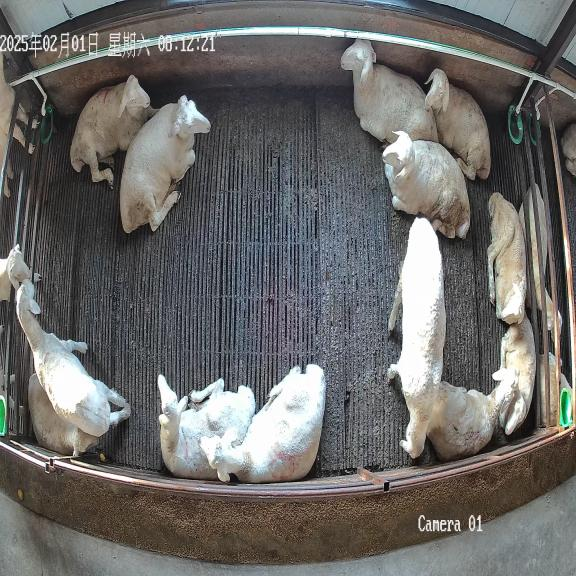lying: (199, 364, 326, 483), (120, 95, 211, 233), (158, 374, 255, 480), (341, 39, 439, 143), (70, 75, 159, 188), (382, 130, 470, 238), (426, 367, 519, 461), (425, 69, 490, 180), (28, 374, 98, 455), (487, 193, 526, 324), (499, 315, 536, 434)
stand: (16, 271, 129, 437), (388, 218, 446, 458)
